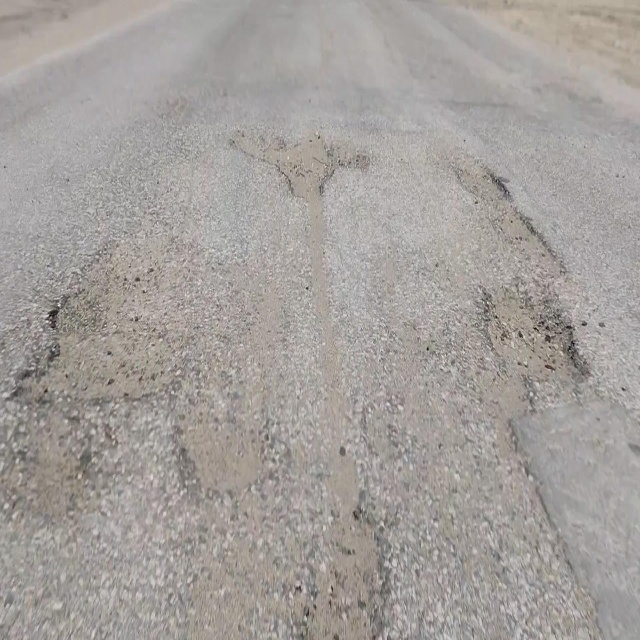pothole: (39, 244, 181, 418), (176, 407, 283, 501), (482, 285, 586, 381), (272, 126, 340, 206), (455, 172, 512, 206)
